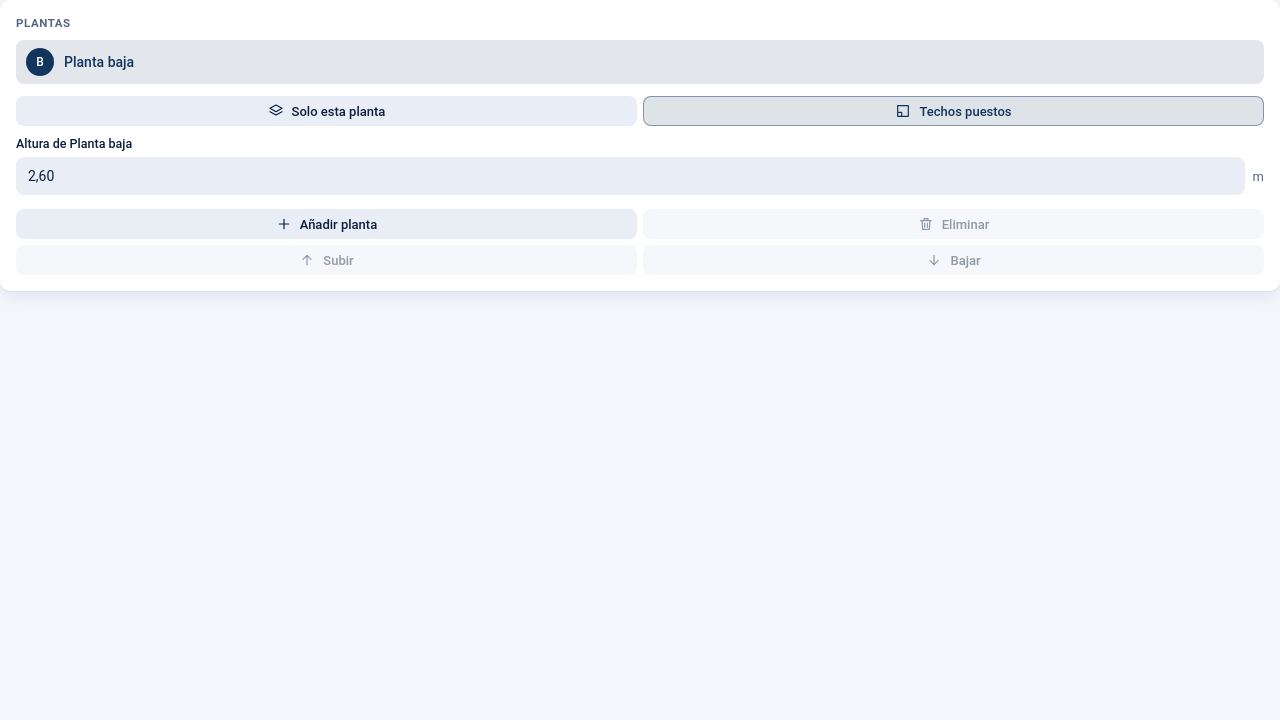
Test case: deleting the active floor asks first, then activates the one below
Later steps or results of the test are not shown.
Click the button "Añadir planta" at (326, 224), box 16,209 -> 637,239
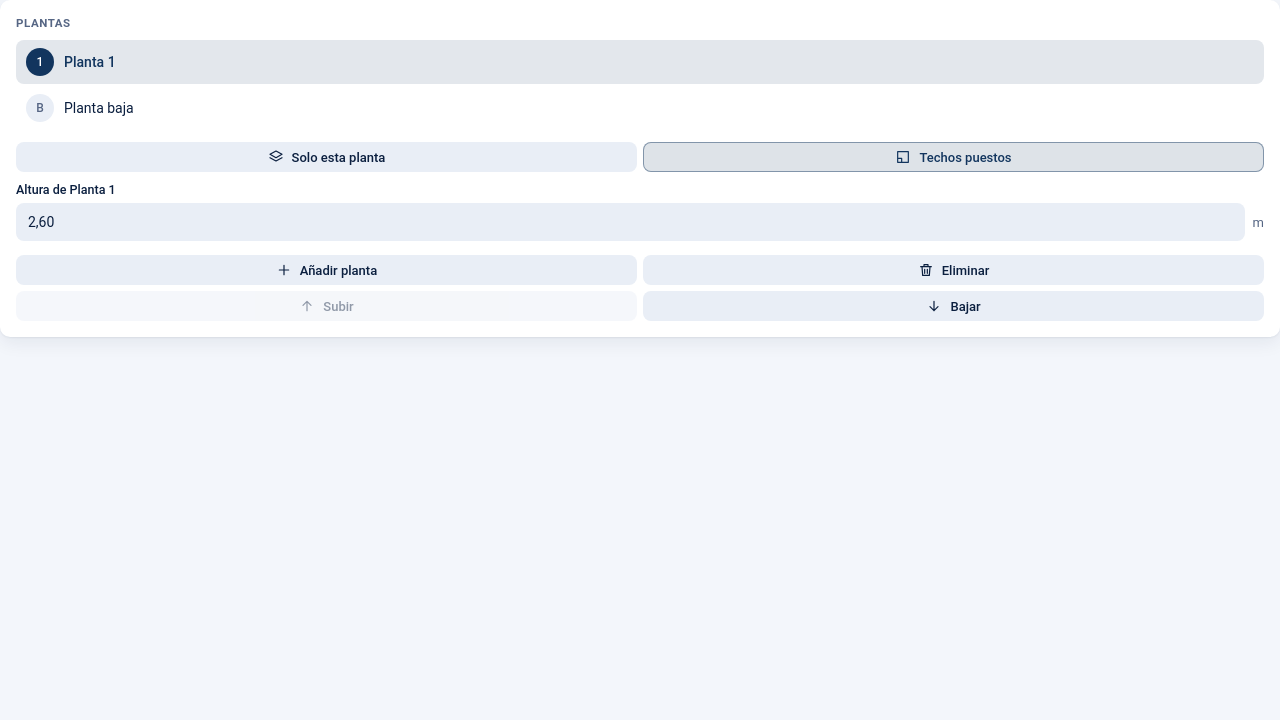
Click the button "Eliminar" at (954, 270), box 643,255 -> 1264,285
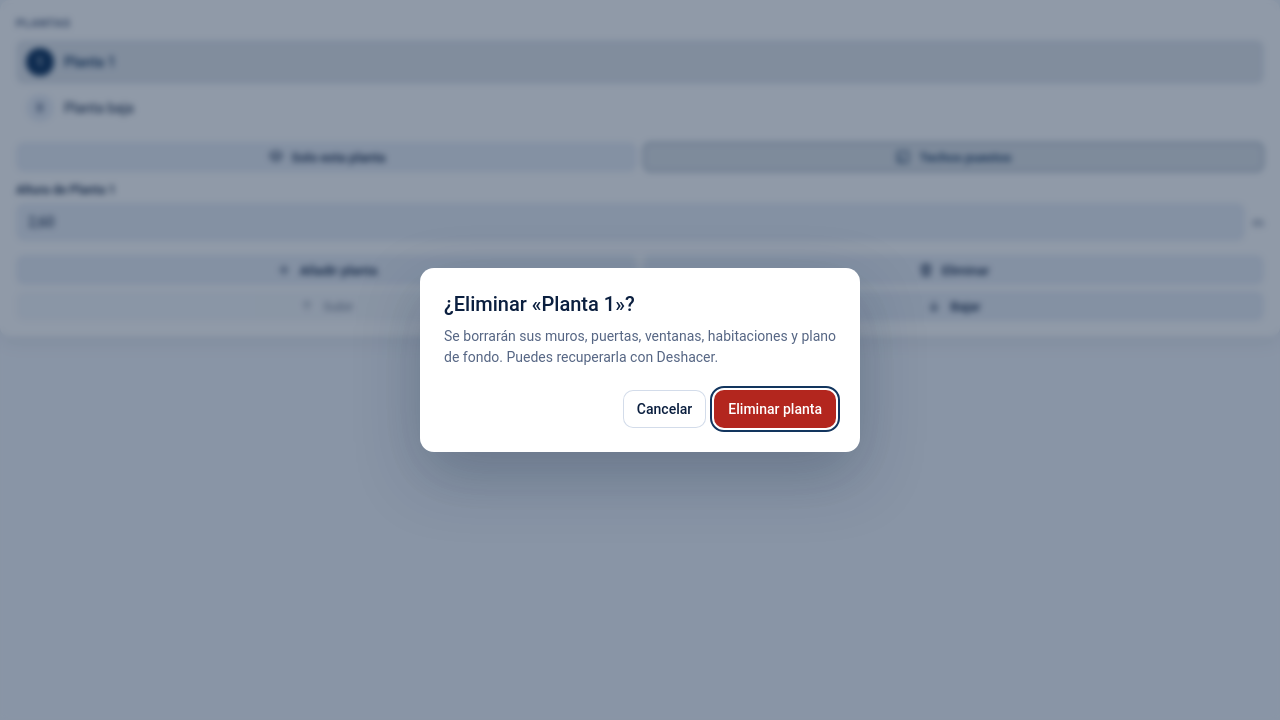
Check: the dialog shows "Planta 1", box 444,292 -> 635,316
